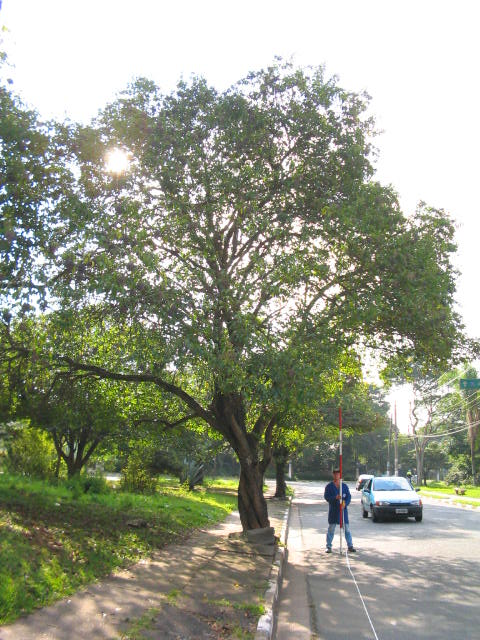crown: (23, 59, 465, 434)
stem: (223, 465, 278, 543)
stick: (335, 407, 348, 554)
tree: (20, 56, 464, 543)
